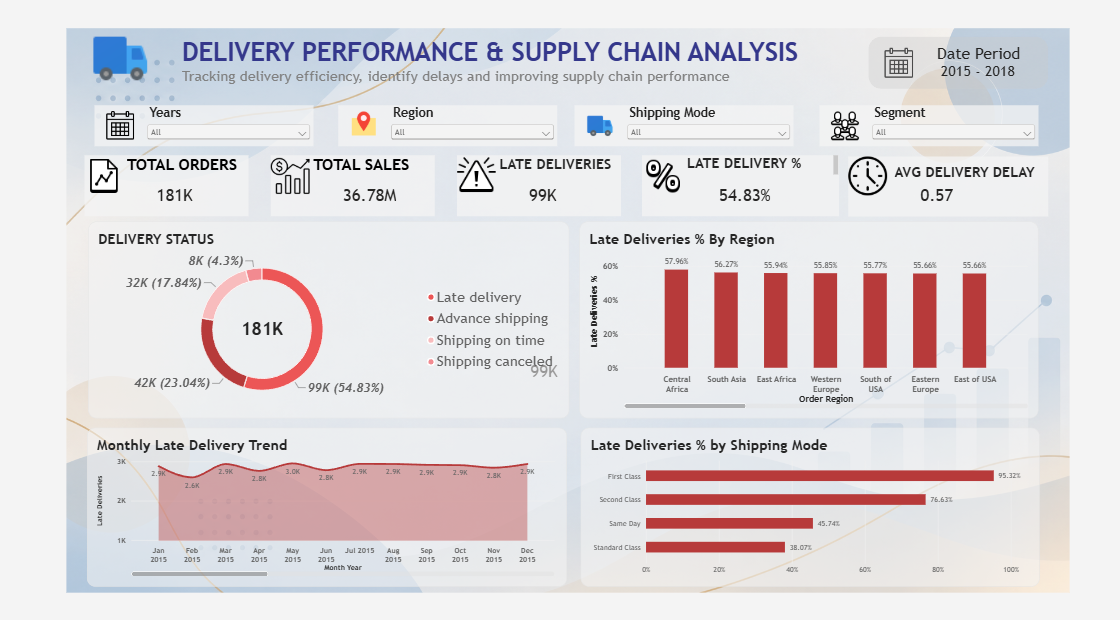

The page's visual inventory and layout, read from the dashboard file:
{"tool":"powerbi","page":{"name":"Page 1","canvas":[1920,1080],"ordinal":0},"visuals":[{"type":"textbox","box":[316.7,79.2,1089.6,52.1],"z":0},{"type":"group","id":"g1","title":"Group 3","box":[154.2,277.1,272.9,102.1],"z":0,"group":"g15"},{"type":"textbox","box":[225,277.1,201.6,30.1],"z":1000,"group":"g4"},{"type":"textbox","box":[535.4,277.1,201.6,30.1],"z":1000,"group":"g5"},{"type":"group","id":"g2","title":"Group 3","box":[775,277.1,272.9,102.1],"z":1000,"group":"g15"},{"type":"textbox","box":[845.8,277.1,201.6,30.1],"z":1000,"group":"g6"},{"type":"textbox","box":[1157.5,277.1,252.1,37.5],"z":1000,"group":"g8"},{"type":"textbox","box":[1504.5,291.7,256.2,50],"z":1000,"group":"g9"},{"type":"cardVisual","fields":{"Data":["delivery_data_clean.Total Ordrs"]},"box":[258.4,307.5,131.2,71.6],"z":1000,"group":"g1"},{"type":"cardVisual","fields":{"Data":["delivery_data_clean.Total Sales"]},"box":[568.8,307.5,131.2,71.6],"z":1000,"group":"g3"},{"type":"cardVisual","fields":{"Data":["delivery_data_clean.Late Deliveries"]},"box":[879.2,307.5,131.2,71.6],"z":1000,"group":"g2"},{"type":"cardVisual","fields":{"Data":["delivery_data_clean.Late Deliveries %"]},"box":[1196.2,307.6,142.1,71.4],"z":1000,"group":"g7"},{"type":"cardVisual","fields":{"Data":["delivery_data_clean.Average Delivery Delay"]},"box":[1531.3,307.6,131.2,71.6],"z":1000,"group":"g10"},{"type":"group","id":"g3","title":"Group 3","box":[464.6,277.1,272.9,102.1],"z":2000,"group":"g15"},{"type":"group","id":"g4","title":"Group 1","box":[225,277.1,202.1,30.4],"z":3000,"group":"g1"},{"type":"group","id":"g5","title":"Group 1","box":[535.4,277.1,202.1,30.4],"z":3000,"group":"g3"},{"type":"group","id":"g6","title":"Group 1","box":[845.8,277.1,202.1,30.4],"z":3000,"group":"g2"},{"type":"group","id":"g7","title":"Group 3","box":[1083.4,277.1,326.2,101.9],"z":3000,"group":"g15"},{"type":"group","id":"g8","title":"Group 1","box":[1157.5,277.1,252.1,37.5],"z":3000,"group":"g7"},{"type":"group","id":"g9","title":"Group 1","box":[1504.5,291.7,256.2,50],"z":3000,"group":"g10"},{"type":"group","id":"g10","title":"Group 3","box":[1427.1,278.9,333.7,100.3],"z":4000,"group":"g15"},{"type":"cardVisual","fields":{"Data":["delivery_data_clean.Late Deliveries"]},"box":[881.2,589.6,133.9,95],"z":8000},{"type":"donutChart","title":"DELIVERY STATUS","fields":{"Category":["delivery_data_clean.Delivery Status"],"Y":["delivery_data_clean.Total Ordrs"]},"box":[160.4,387.5,801.4,328.4],"z":11000},{"type":"columnChart","title":"Late Deliveries % By Region","fields":{"Category":["delivery_data_clean.Order Region"],"Y":["delivery_data_clean.Late Deliveries %"]},"box":[979.2,387.5,764.7,328.4],"z":12000},{"type":"barChart","fields":{"Category":["delivery_data_clean.Shipping Mode"],"Y":["delivery_data_clean.Late Deliveries %"]},"box":[981.2,731.2,764.6,264.6],"z":13000},{"type":"slicer","fields":{"Values":["DateTable.Month"]},"box":[254.1,193.8,281.2,68.8],"z":14000,"group":"g11"},{"type":"slicer","fields":{"Values":["delivery_data_clean.Order Region"]},"box":[660.4,193.8,281.2,68.8],"z":14000,"group":"g13"},{"type":"slicer","fields":{"Values":["delivery_data_clean.Shipping Mode"]},"box":[1054.1,193.8,281.2,68.8],"z":14000,"group":"g12"},{"type":"slicer","fields":{"Values":["delivery_data_clean.Customer Segment"]},"box":[1462.5,193.8,281.2,68.8],"z":14000,"group":"g14"},{"type":"lineChart","title":"Monthly Late Delivery Trend","fields":{"Category":["DateTable.Month Year"],"Y":["delivery_data_clean.Late Deliveries"]},"box":[158.3,731.2,800,264.6],"z":14000},{"type":"textbox","box":[316.7,131.2,981.2,35.4],"z":15000},{"type":"image","box":[72.9,64.6,281.2,102.1],"z":16000},{"type":"image","box":[1454.2,97.9,114.6,52.1],"z":17000},{"type":"shape","box":[1460.4,79.2,300,87.5],"z":18000},{"type":"textbox","box":[1575,91.7,141.7,31.2],"z":19000},{"type":"textbox","box":[1581.2,122.9,127.1,33.3],"z":20000},{"type":"group","id":"g11","title":"Group 2","box":[170.8,193.8,364.6,68.8],"z":21000},{"type":"group","id":"g12","title":"Group 2","box":[970.8,193.8,364.6,68.8],"z":22000},{"type":"group","id":"g13","title":"Group 2","box":[577.1,193.8,364.6,68.8],"z":23000},{"type":"group","id":"g14","title":"Group 2","box":[1379.2,193.8,364.6,68.8],"z":24000},{"type":"image","box":[170.8,193.8,85.4,68.8],"z":24001,"group":"g11"},{"type":"image","box":[577.1,193.8,85.4,68.8],"z":24001,"group":"g13"},{"type":"image","box":[970.8,193.8,85.4,68.8],"z":24001,"group":"g12"},{"type":"image","box":[1379.2,193.8,85.4,68.8],"z":24001,"group":"g14"},{"type":"image","box":[154.2,278.9,64.6,64.5],"z":25000,"group":"g1"},{"type":"image","box":[464.6,278.9,64.6,64.5],"z":25000,"group":"g3"},{"type":"image","box":[775,278.9,64.6,64.5],"z":25000,"group":"g2"},{"type":"image","box":[1427.1,278.9,64.6,64.5],"z":25000,"group":"g10"},{"type":"image","box":[1083.4,279,69.9,64.3],"z":25000,"group":"g7"},{"type":"group","id":"g15","title":"Group 4","box":[154.2,277.1,1606.2,102.1],"z":25006}]}

Visuals, with their boxes in screenshot pixels (x1, y1, x2, y2), scaled from the page's 1920x1080 canvas onto the 1120x620 screenshot:
textbox: left=185, top=45, right=820, bottom=75
"Group 3" group: left=90, top=159, right=249, bottom=218
textbox: left=131, top=159, right=249, bottom=176
textbox: left=312, top=159, right=430, bottom=176
"Group 3" group: left=452, top=159, right=611, bottom=218
textbox: left=493, top=159, right=611, bottom=176
textbox: left=675, top=159, right=822, bottom=181
textbox: left=878, top=167, right=1027, bottom=196
cardVisual - delivery_data_clean.Total Ordrs: left=151, top=177, right=227, bottom=218
cardVisual - delivery_data_clean.Total Sales: left=332, top=177, right=408, bottom=218
cardVisual - delivery_data_clean.Late Deliveries: left=513, top=177, right=589, bottom=218
cardVisual - delivery_data_clean.Late Deliveries %: left=698, top=177, right=781, bottom=218
cardVisual - delivery_data_clean.Average Delivery Delay: left=893, top=177, right=970, bottom=218
"Group 3" group: left=271, top=159, right=430, bottom=218
"Group 1" group: left=131, top=159, right=249, bottom=177
"Group 1" group: left=312, top=159, right=430, bottom=177
"Group 1" group: left=493, top=159, right=611, bottom=177
"Group 3" group: left=632, top=159, right=822, bottom=218
"Group 1" group: left=675, top=159, right=822, bottom=181
"Group 1" group: left=878, top=167, right=1027, bottom=196
"Group 3" group: left=832, top=160, right=1027, bottom=218
cardVisual - delivery_data_clean.Late Deliveries: left=514, top=338, right=592, bottom=393
"DELIVERY STATUS" donutChart: left=94, top=222, right=561, bottom=411
"Late Deliveries % By Region" columnChart: left=571, top=222, right=1017, bottom=411
barChart - delivery_data_clean.Shipping Mode x delivery_data_clean.Late Deliveries %: left=572, top=420, right=1018, bottom=572
slicer - DateTable.Month: left=148, top=111, right=312, bottom=151
slicer - delivery_data_clean.Order Region: left=385, top=111, right=549, bottom=151
slicer - delivery_data_clean.Shipping Mode: left=615, top=111, right=779, bottom=151
slicer - delivery_data_clean.Customer Segment: left=853, top=111, right=1017, bottom=151
"Monthly Late Delivery Trend" lineChart: left=92, top=420, right=559, bottom=572
textbox: left=185, top=75, right=757, bottom=96
image: left=43, top=37, right=207, bottom=96
image: left=848, top=56, right=915, bottom=86
shape: left=852, top=45, right=1027, bottom=96
textbox: left=919, top=53, right=1001, bottom=71
textbox: left=922, top=71, right=997, bottom=90
"Group 2" group: left=100, top=111, right=312, bottom=151
"Group 2" group: left=566, top=111, right=779, bottom=151
"Group 2" group: left=337, top=111, right=549, bottom=151
"Group 2" group: left=805, top=111, right=1017, bottom=151
image: left=100, top=111, right=149, bottom=151
image: left=337, top=111, right=386, bottom=151
image: left=566, top=111, right=616, bottom=151
image: left=805, top=111, right=854, bottom=151
image: left=90, top=160, right=128, bottom=197
image: left=271, top=160, right=309, bottom=197
image: left=452, top=160, right=490, bottom=197
image: left=832, top=160, right=870, bottom=197
image: left=632, top=160, right=673, bottom=197
"Group 4" group: left=90, top=159, right=1027, bottom=218
